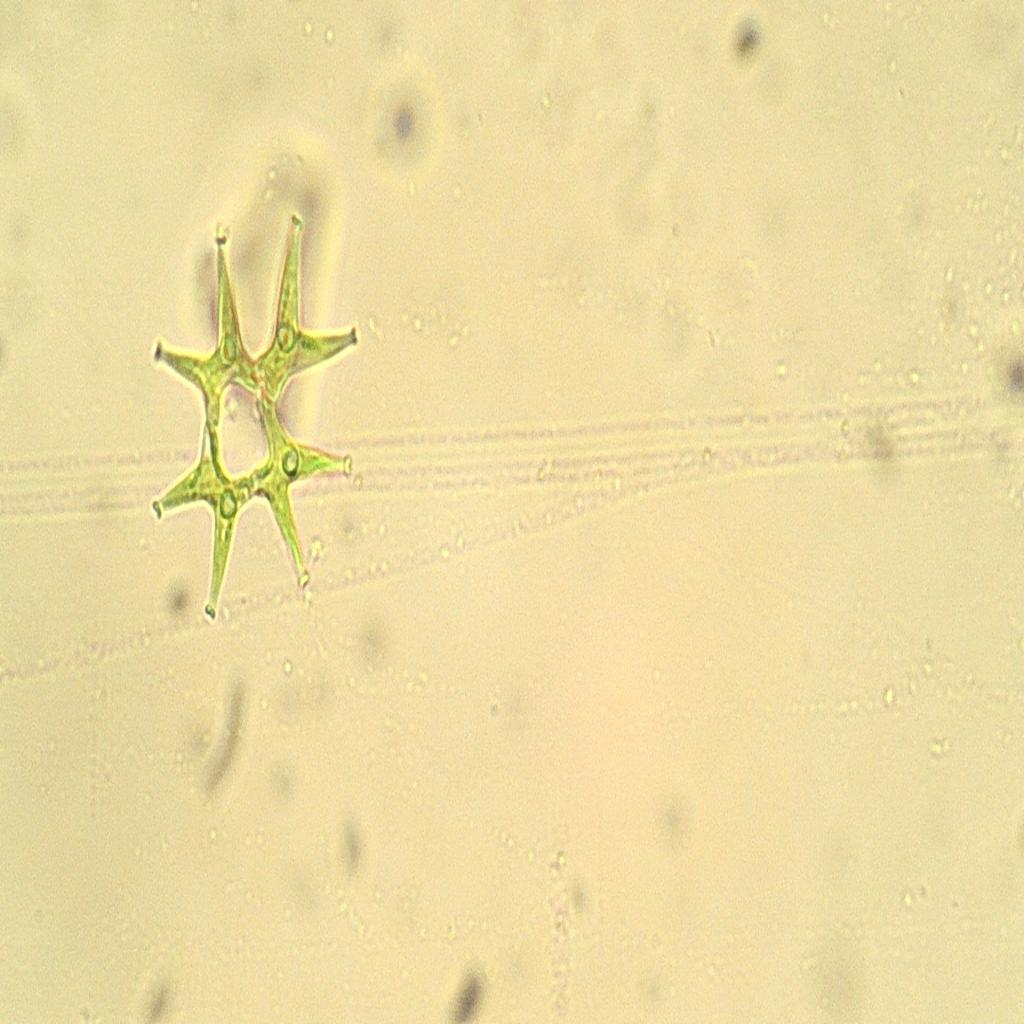Pediastrum_75FI: (139, 178, 381, 634)
